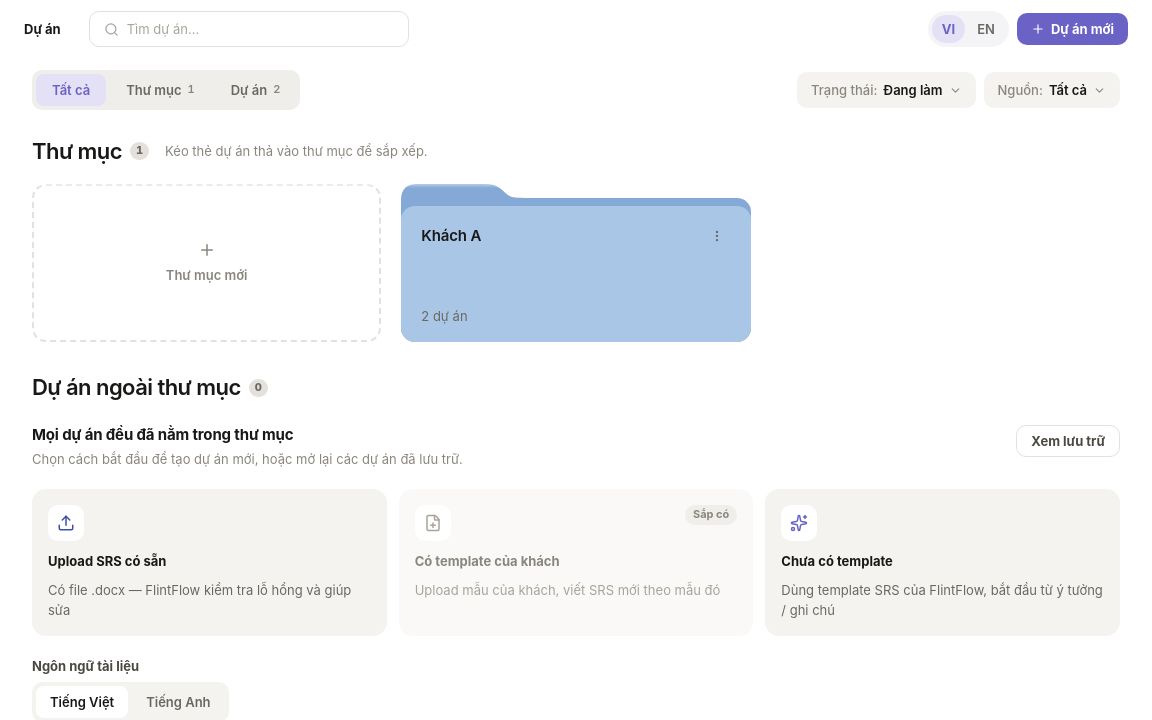
it: Project Dashboard › trong thư mục: chọn nhiều ⇒ đưa cả nhóm ra ngoài một lượt, xong thì thoát chế độ chọn
This screenshot has width=1152, height=720.
Click the button "Khách A 2 dự án" at (451,236), box [401,206,751,342]
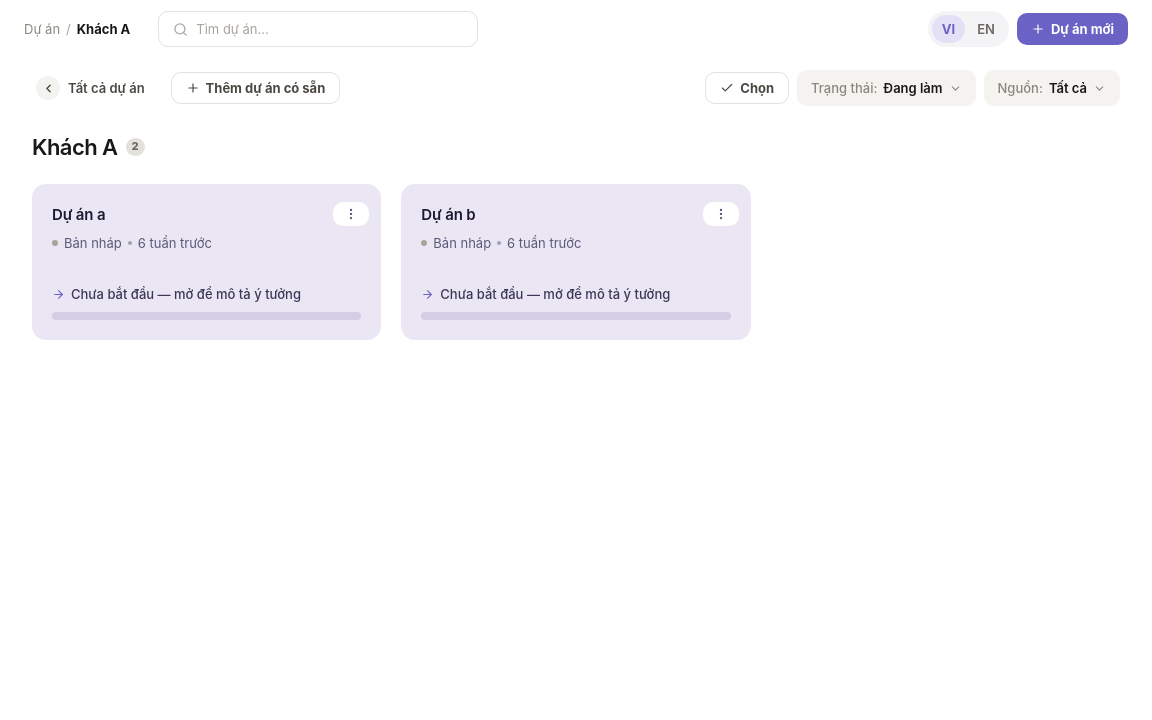
Check: the link "Dự án a" is shown, box [32,184,381,340]
Click the button "Chọn" at (747,88), box [705,72,789,104]
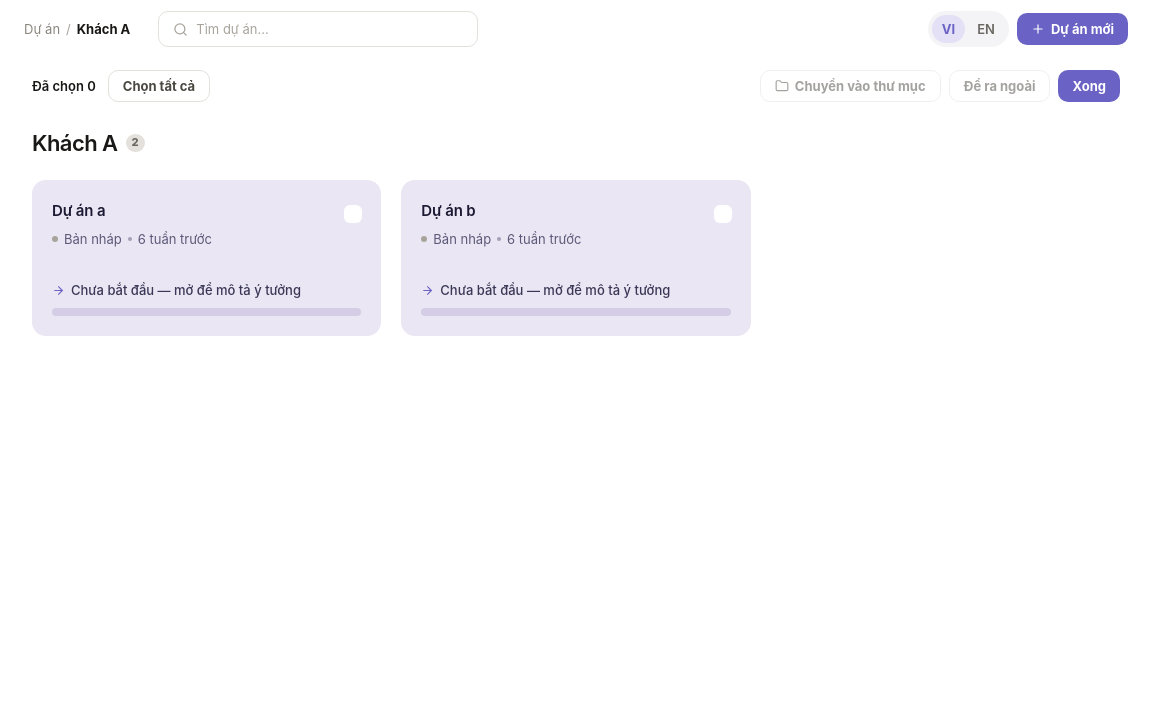
Click the checkbox named "Chọn dự án Dự án a" at (353,214), box [344,205,362,223]
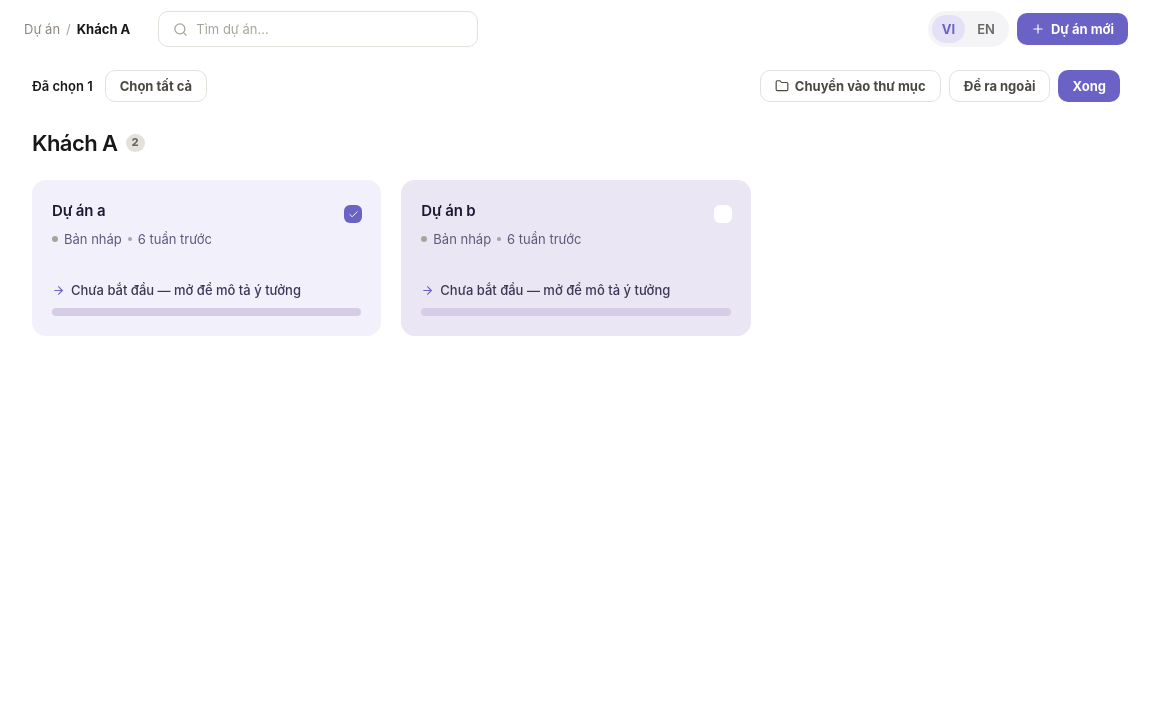
Click the checkbox named "Chọn dự án Dự án b" at (723,214), box [714,205,732,223]
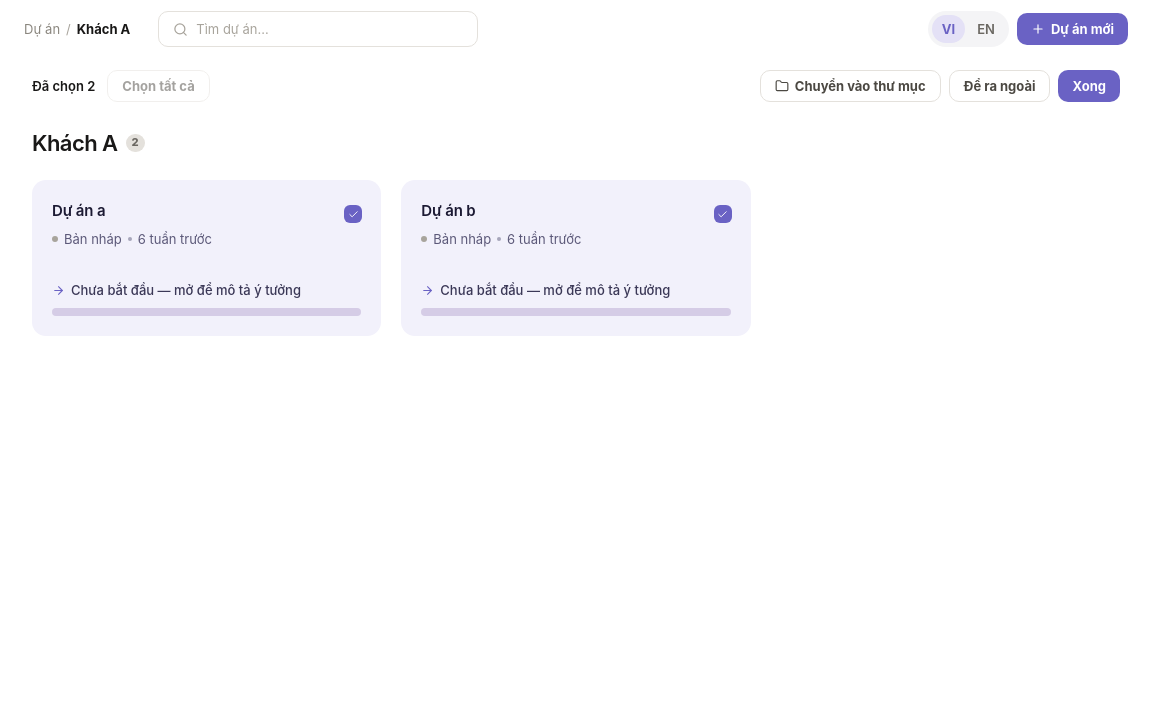
Check: the text "Đã chọn 2" is shown, box [32,76,95,96]
Click the button "Để ra ngoài" at (1000,86), box [949,70,1050,102]
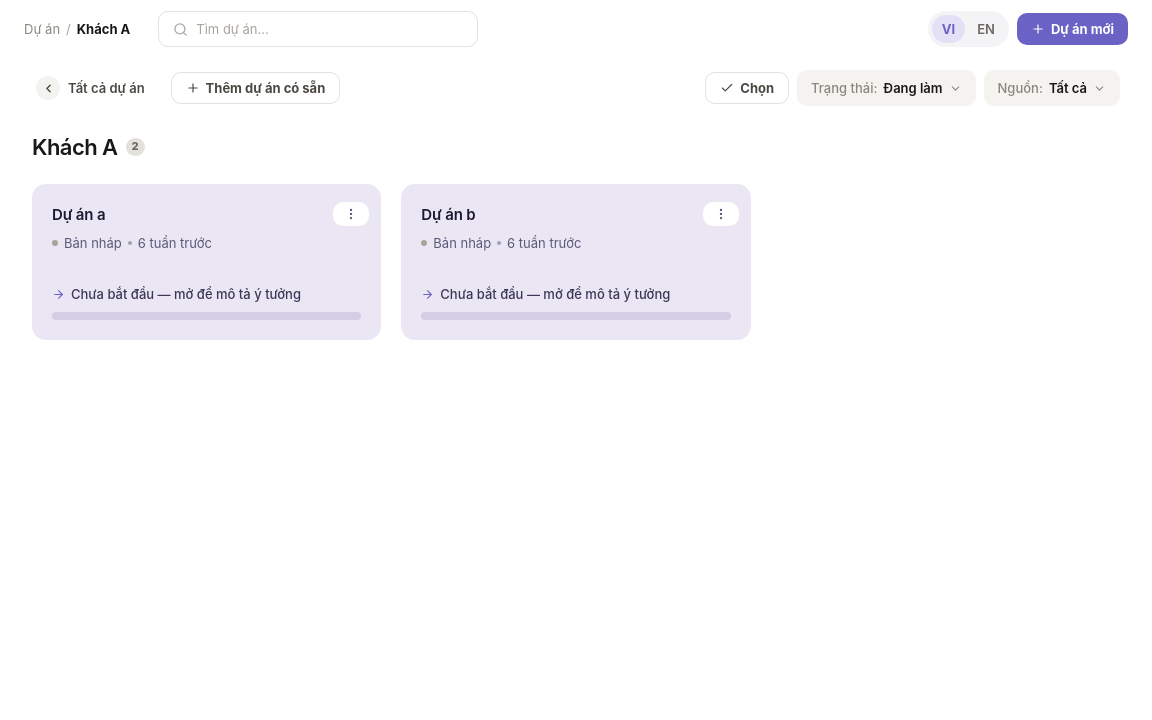
Check: the button "Chọn" is shown, box [705,72,789,104]
